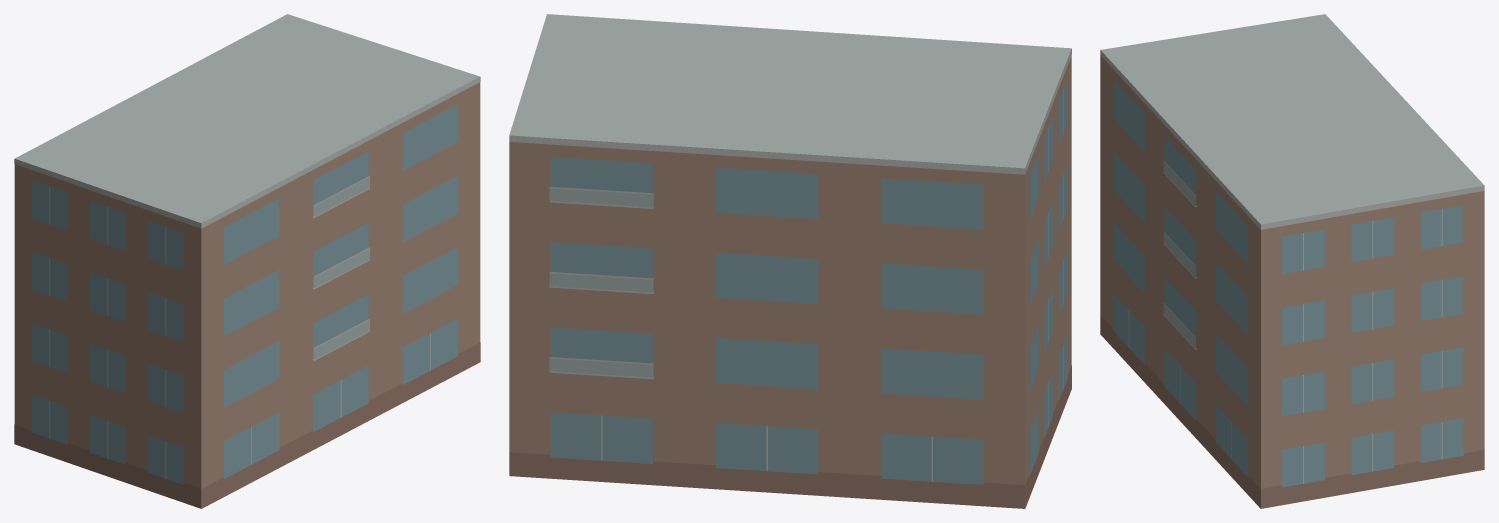
The model's file is survey-upis-32549221.glb.
3 views of the same model, side by side, from view 1: azimuth 30°, elevation 25°; view 2: azimuth 150°, elevation 25°; view 3: azimuth 270°, elevation 25° (orthographic). The views are drawn at different scales.
Parts seen in each view (by area): view 1: survey-upis-32549221.tmp; view 2: survey-upis-32549221.tmp; view 3: survey-upis-32549221.tmp.
Part boxes in pixels (left/top/right/bottom): survey-upis-32549221.tmp: left=14, top=14, right=480, bottom=508; survey-upis-32549221.tmp: left=509, top=14, right=1071, bottom=508; survey-upis-32549221.tmp: left=1100, top=14, right=1484, bottom=508.
Size of the model in its own units: 20.66 by 13 by 15.93.
